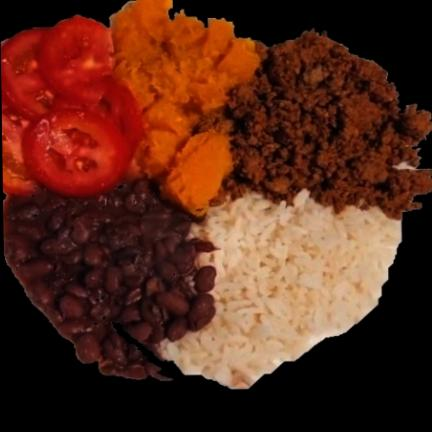beans: (3, 181, 220, 379)
meat: (205, 33, 432, 222)
rice: (160, 195, 405, 391)
tomato: (1, 17, 140, 197)
